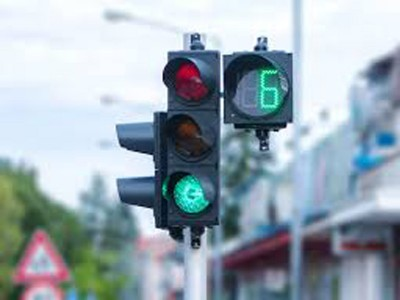trafficlight_green: (160, 52, 217, 220)
